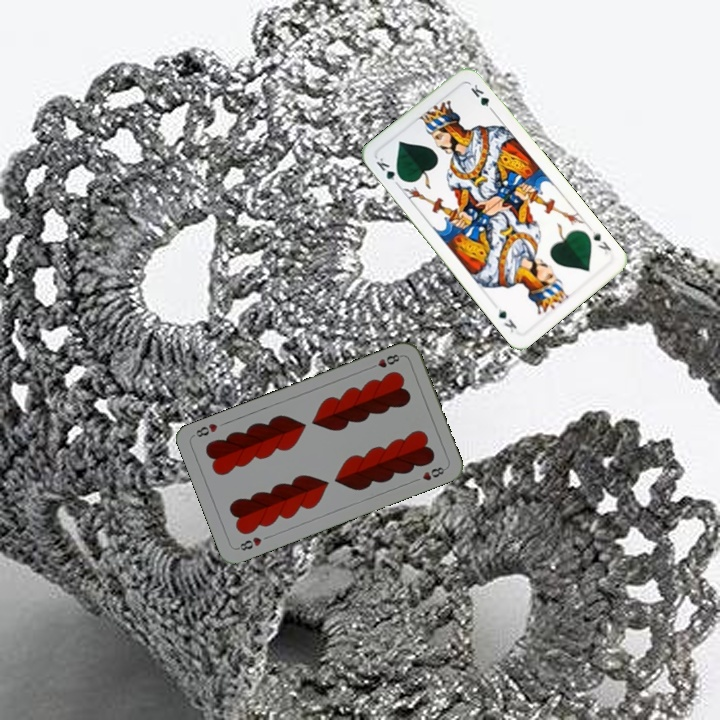GK: (372, 153, 406, 184), (588, 227, 614, 257)
H8: (366, 350, 405, 372), (233, 533, 264, 553)
